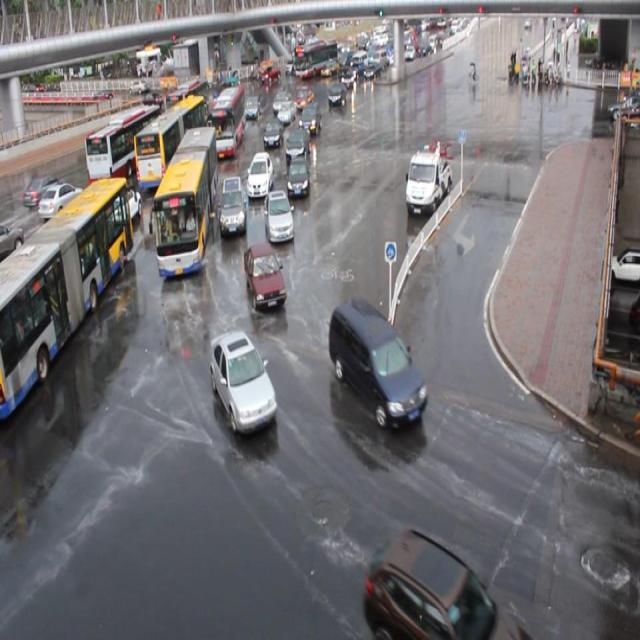bus: (405, 148, 452, 215)
car: (366, 530, 518, 640), (329, 296, 427, 426), (212, 328, 276, 433), (245, 241, 285, 310), (101, 186, 143, 232), (218, 176, 245, 238), (263, 190, 293, 245), (38, 187, 81, 217), (246, 153, 271, 197), (24, 174, 58, 205), (286, 127, 308, 165), (287, 158, 306, 200), (264, 118, 282, 150), (298, 104, 318, 132), (244, 94, 261, 122), (272, 89, 290, 112), (326, 84, 346, 104), (294, 85, 311, 107), (278, 104, 294, 125)
van: (1, 176, 132, 423), (152, 129, 219, 278), (83, 104, 165, 190), (136, 94, 208, 190), (210, 84, 245, 160), (167, 81, 211, 122)
